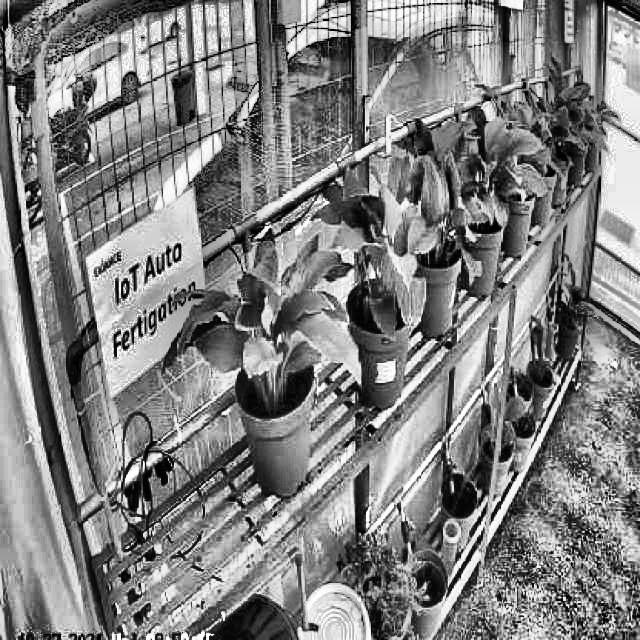plants: (158, 222, 360, 410), (378, 137, 480, 286), (429, 107, 548, 230), (334, 212, 428, 352)
